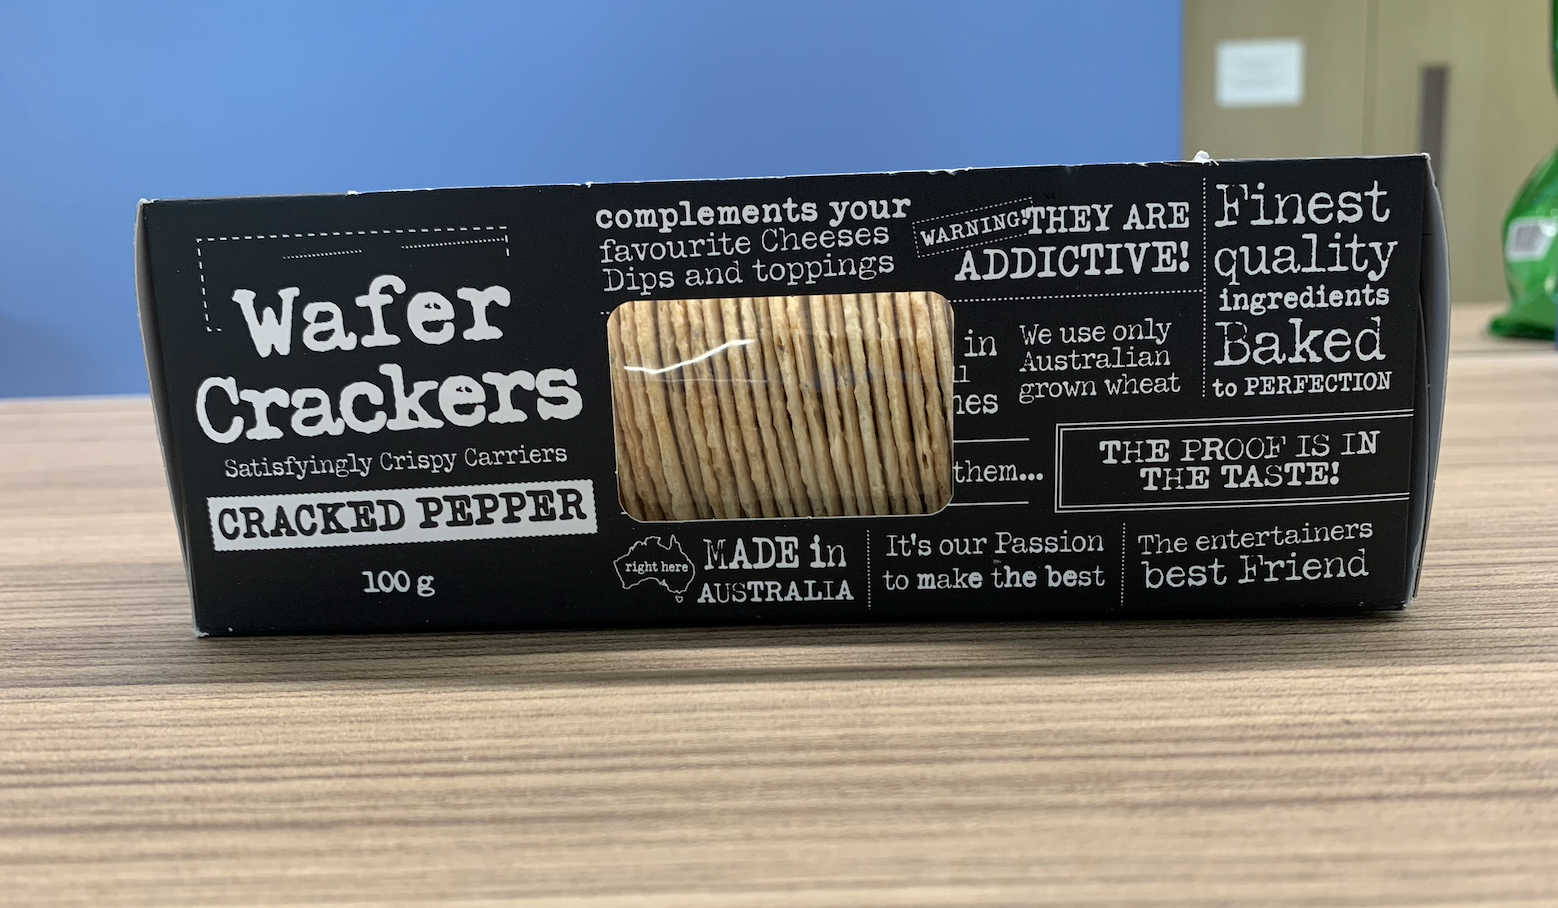crackers_150g: (185, 204, 1392, 606)
